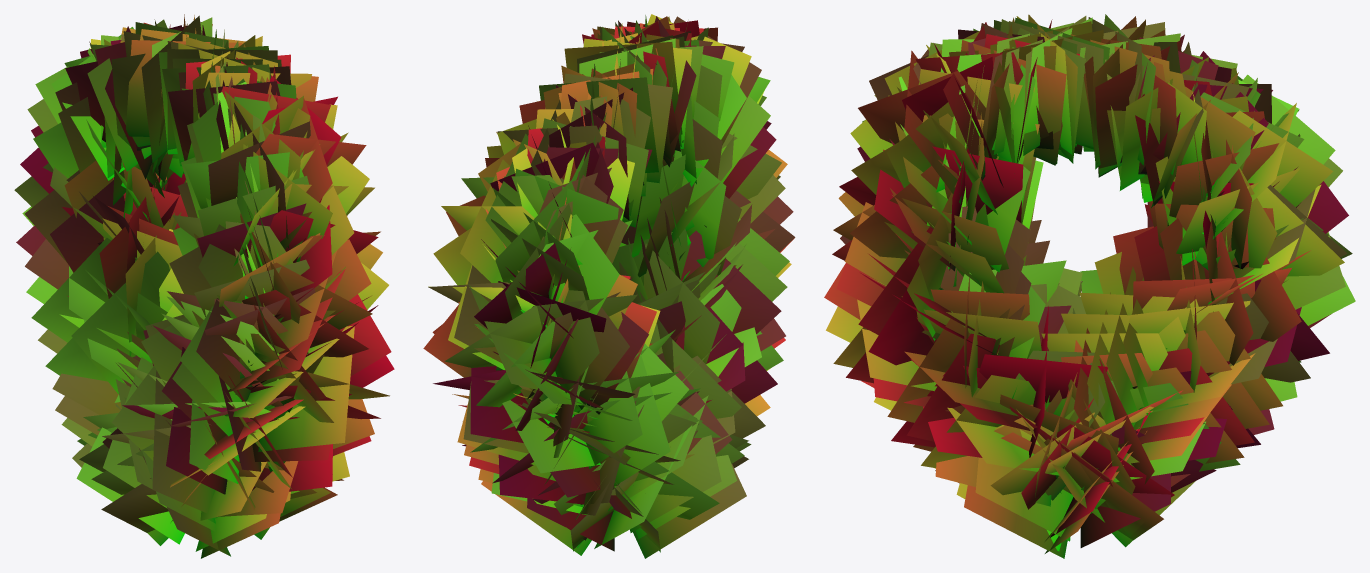
The model's file is URP_P4_Tree_14_LOD_1.fbx.
3 views of the same model, side by side, from view 1: azimuth 30°, elevation 25°; view 2: azimuth 150°, elevation 25°; view 3: azimuth 270°, elevation 25° (orthographic). The views are drawn at different scales.
Visible parts, largest first — view 1: Tree_14_LOD_1; view 2: Tree_14_LOD_1; view 3: Tree_14_LOD_1.
Boxes of the visible parts, <box> form: Tree_14_LOD_1: <box>14,14,394,558</box>; Tree_14_LOD_1: <box>423,14,795,558</box>; Tree_14_LOD_1: <box>824,14,1355,558</box>.
Size of the model in its own units: 215 by 424 by 403.
